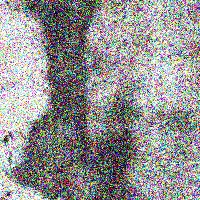patches: (19, 1, 101, 200), (90, 125, 139, 200), (104, 91, 140, 129)
